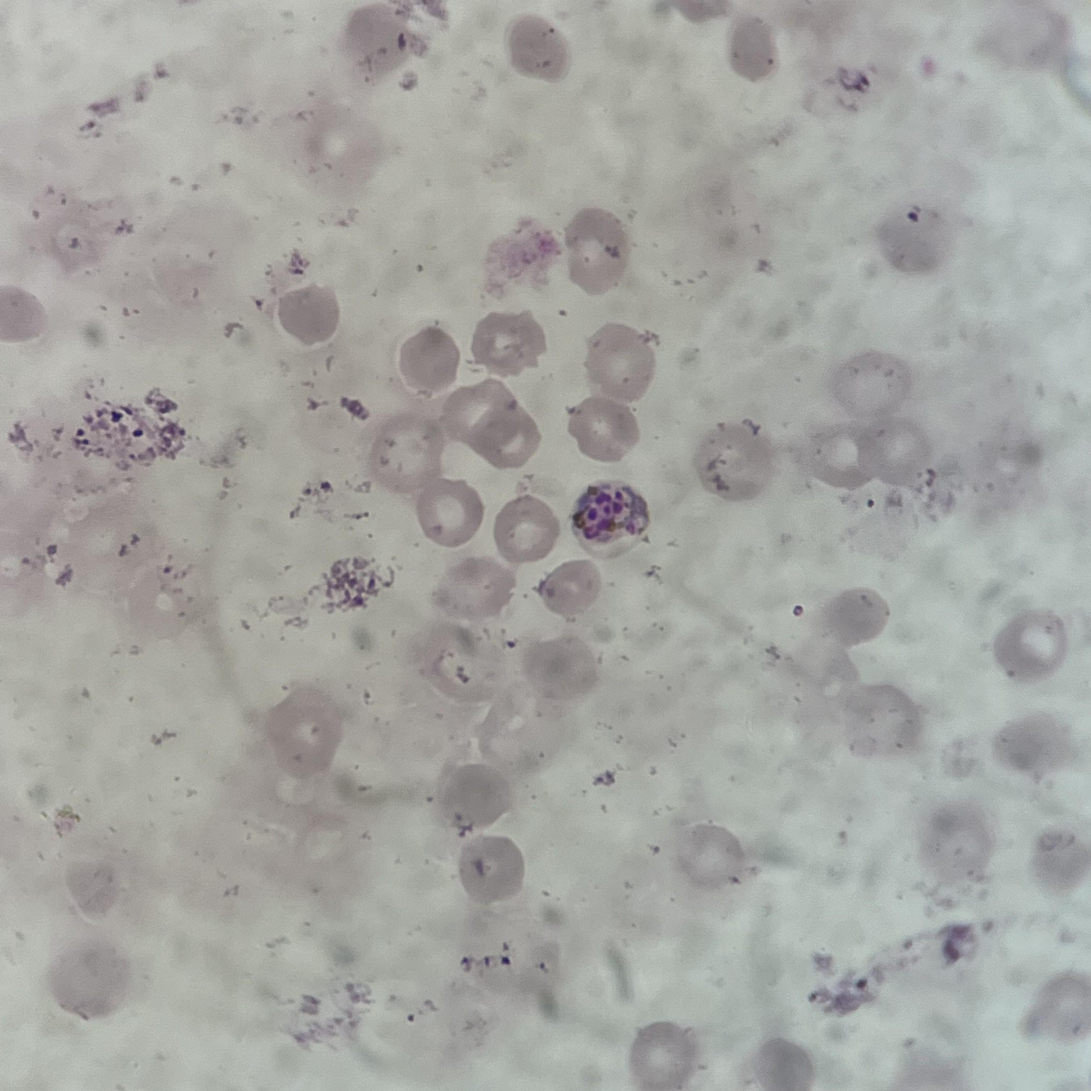Infected: (564, 476, 656, 560)
Uninfected: (559, 205, 632, 296), (690, 425, 778, 499), (366, 411, 442, 489), (990, 604, 1065, 680), (584, 322, 656, 399), (441, 761, 517, 830), (802, 420, 876, 488), (625, 1022, 697, 1091), (469, 311, 544, 377), (459, 834, 524, 908), (444, 377, 517, 442), (274, 281, 344, 347), (419, 474, 482, 547), (505, 14, 571, 79), (475, 408, 543, 471), (566, 398, 636, 459), (396, 329, 454, 395), (497, 499, 558, 560), (541, 558, 595, 614)
